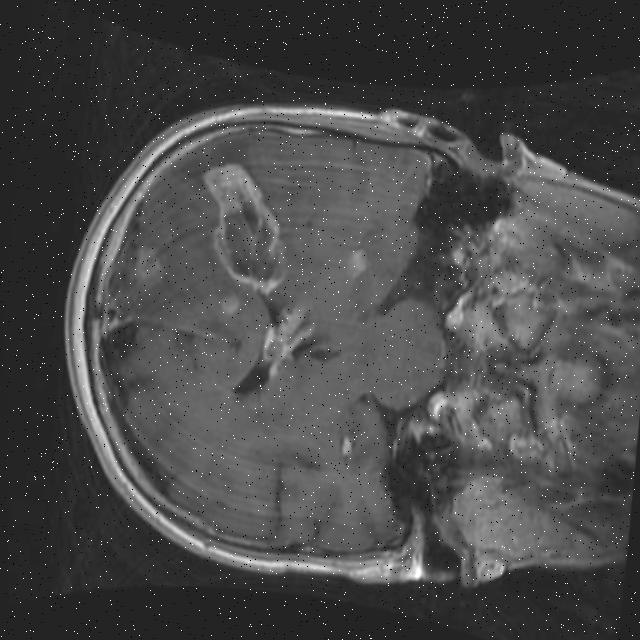Glioma: (187, 155, 299, 294), (258, 297, 317, 370)
